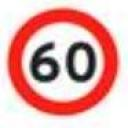speed_limit_60: (6, 6, 123, 119)
